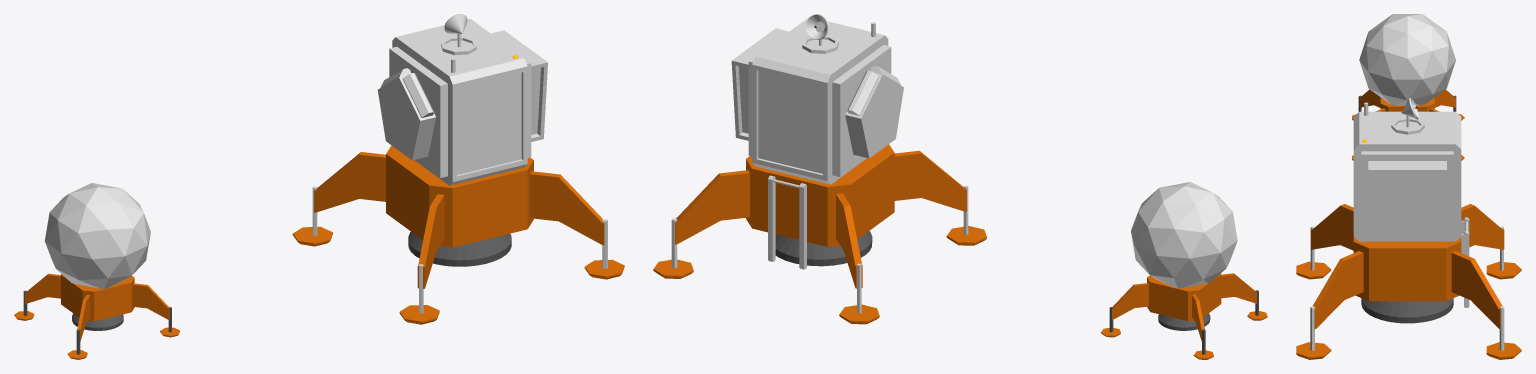
Rendered from Lander.glb.
The picture shows the model from 3 angles, left to right: view 1: azimuth 30°, elevation 25°; view 2: azimuth 150°, elevation 25°; view 3: azimuth 270°, elevation 25°; orthographic projection. The views are drawn at different scales.
Parts seen in each view (by area): view 1: Cube.001, Cube, Icosphere.002, Cube.005, Cylinder.006, Cylinder, Cylinder.014, Cylinder.012, Cylinder.013, Cylinder.001, Cylinder.024; view 2: Cube.001, Cube, Icosphere.002, Cube.005, Cylinder.006, Cylinder, Cube.003, Cube.004, Cylinder.012, Cylinder.014, Cylinder.015, Cylinder.024 (+2 smaller); view 3: Cube.001, Cube, Icosphere.002, Cylinder, Cube.005, Cylinder.014, Cylinder.015, Cylinder.012, Cylinder.013, Cylinder.001, Cube.004, Cylinder.008 (+2 smaller).
Boxes of the visible parts, x1=… form: Cube.001: x1=389, y1=19, x2=547, y2=185; Cube: x1=314, y1=145, x2=604, y2=288; Icosphere.002: x1=45, y1=183, x2=150, y2=288; Cube.005: x1=25, y1=273, x2=169, y2=341; Cylinder.006: x1=377, y1=68, x2=436, y2=160; Cylinder: x1=408, y1=232, x2=511, y2=266; Cylinder.014: x1=399, y1=305, x2=439, y2=324; Cylinder.012: x1=292, y1=226, x2=332, y2=246; Cylinder.013: x1=584, y1=259, x2=624, y2=279; Cylinder.001: x1=441, y1=36, x2=476, y2=55; Cylinder.024: x1=72, y1=313, x2=123, y2=330; Cube.001: x1=731, y1=17, x2=891, y2=184; Cube: x1=675, y1=144, x2=966, y2=288; Icosphere.002: x1=1131, y1=182, x2=1237, y2=288; Cube.005: x1=1112, y1=273, x2=1256, y2=341; Cylinder.006: x1=845, y1=65, x2=903, y2=158; Cylinder: x1=775, y1=231, x2=872, y2=266; Cube.003: x1=799, y1=183, x2=806, y2=269; Cube.004: x1=768, y1=175, x2=775, y2=261; Cylinder.012: x1=839, y1=304, x2=879, y2=324; Cylinder.014: x1=946, y1=226, x2=986, y2=245; Cylinder.015: x1=653, y1=259, x2=693, y2=278; Cylinder.024: x1=1158, y1=313, x2=1210, y2=330; Cube.001: x1=1353, y1=111, x2=1461, y2=241; Cube: x1=1310, y1=204, x2=1504, y2=328; Icosphere.002: x1=1359, y1=14, x2=1455, y2=105; Cylinder: x1=1361, y1=298, x2=1453, y2=323; Cube.005: x1=1359, y1=89, x2=1455, y2=111; Cylinder.014: x1=1296, y1=261, x2=1331, y2=279; Cylinder.015: x1=1486, y1=342, x2=1521, y2=359; Cylinder.012: x1=1486, y1=261, x2=1521, y2=279; Cylinder.013: x1=1296, y1=342, x2=1331, y2=359; Cylinder.001: x1=1391, y1=118, x2=1424, y2=134; Cube.004: x1=1461, y1=231, x2=1469, y2=307; Cylinder.008: x1=1499, y1=306, x2=1504, y2=350.
Size of what is drawn, in the model's own units: 10.14 by 4.42 by 4.21.
